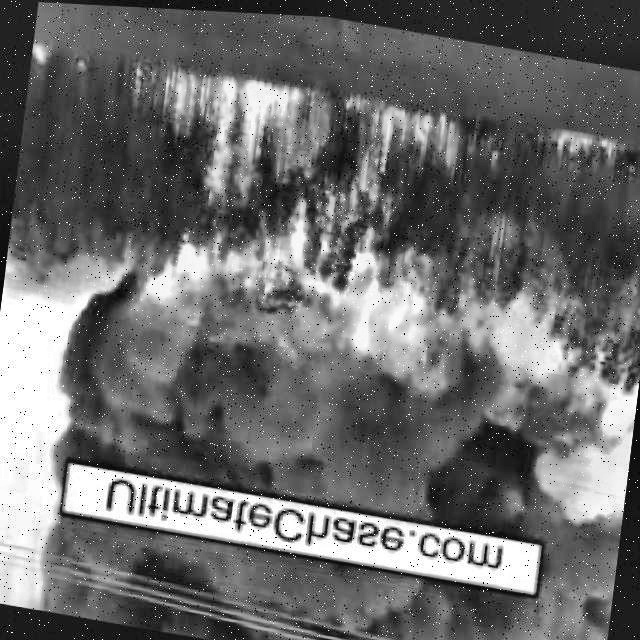Fire: (131, 63, 477, 374), (552, 120, 630, 154), (30, 36, 54, 67)
Smoke: (44, 302, 636, 544), (29, 508, 611, 640)
